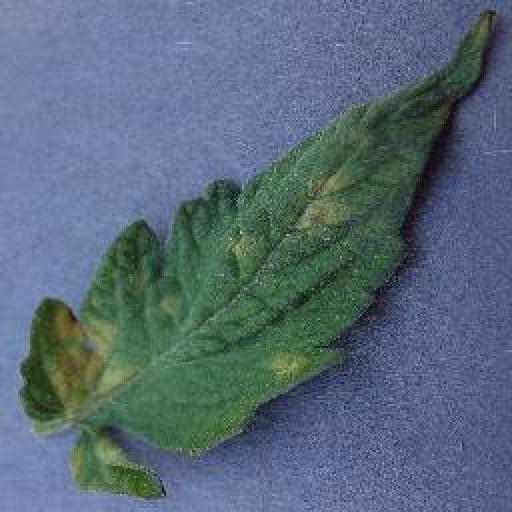Leaf Mold: (20, 5, 495, 500)
